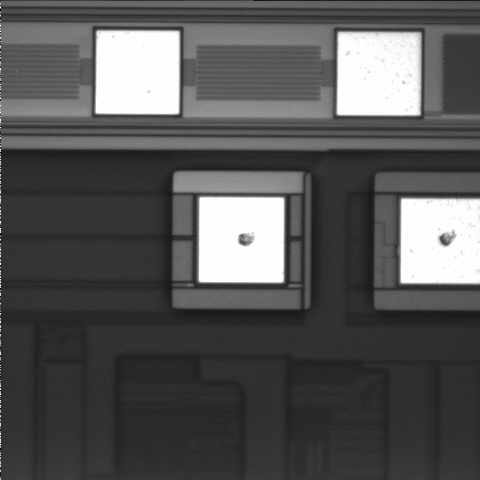pad: (199, 197, 284, 283), (96, 31, 179, 114), (337, 32, 420, 115)
